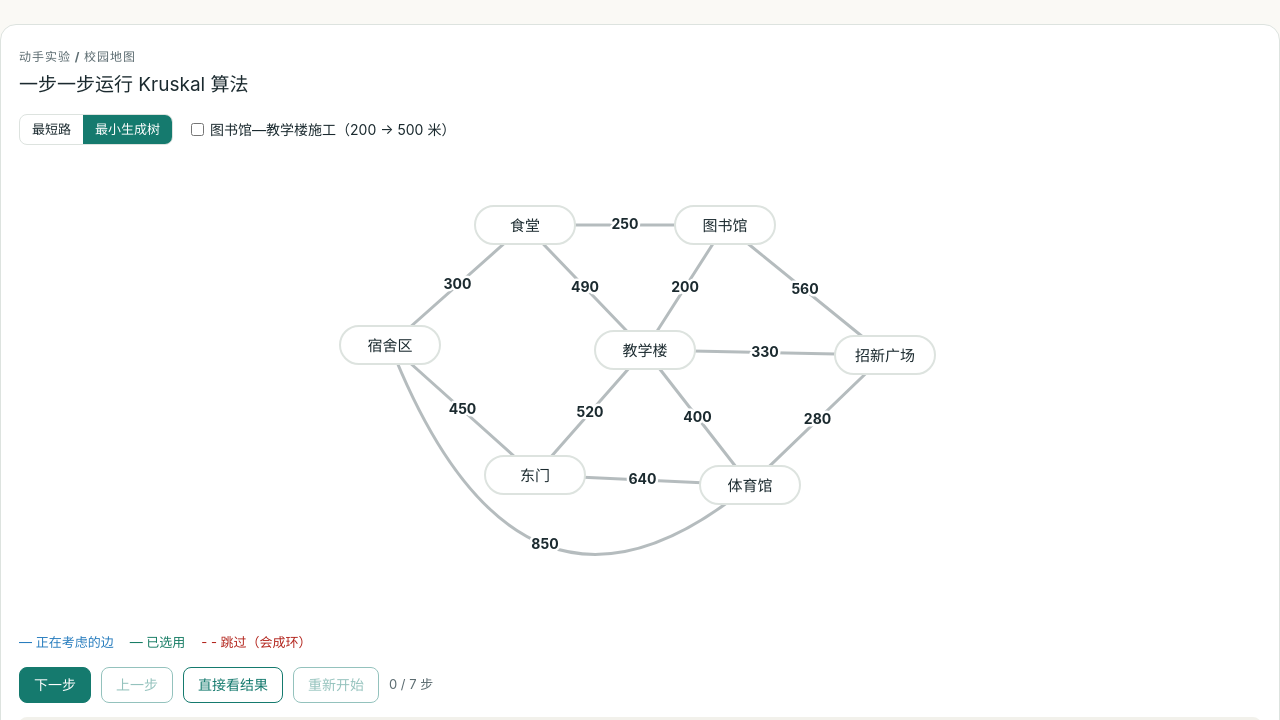
Test case: 最小生成树实验 › switches between the two problems
Click the button "最短路".
click(52, 129)  # box x1=20 y1=114 x2=83 y2=144
(page scrolled)
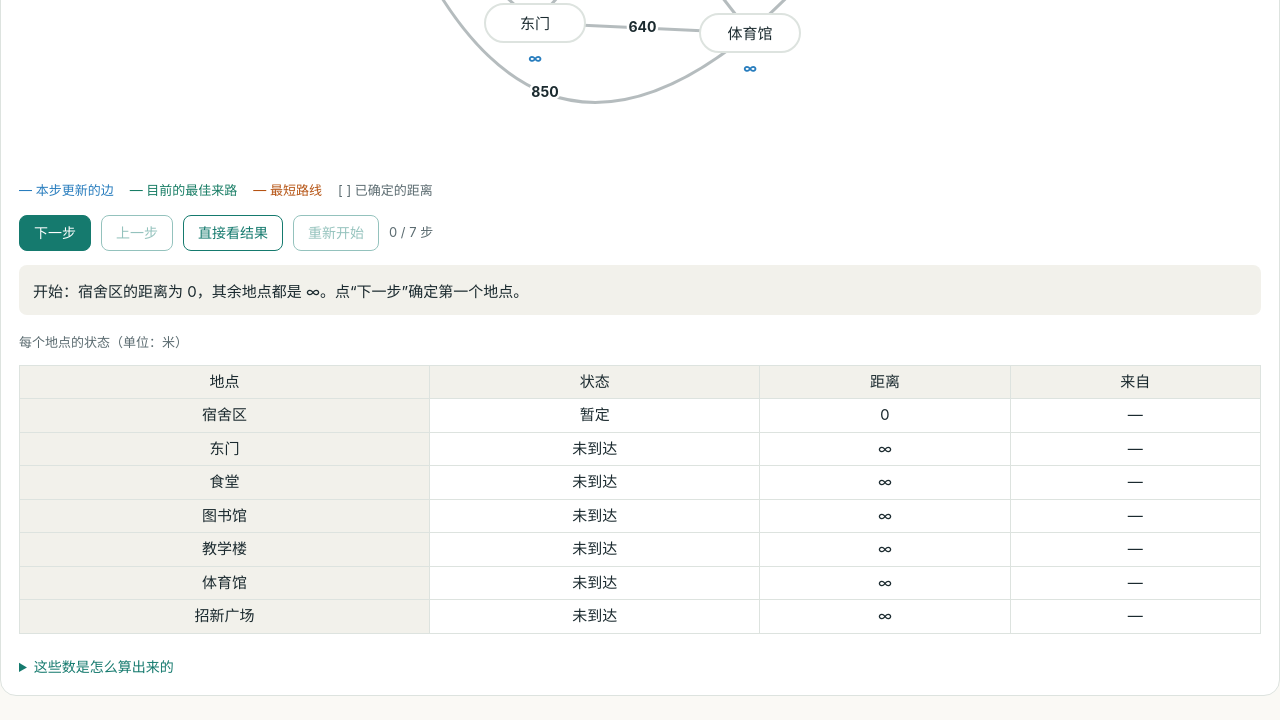
Expected: the table is shown, x1=19 y1=333 x2=1261 y2=634
